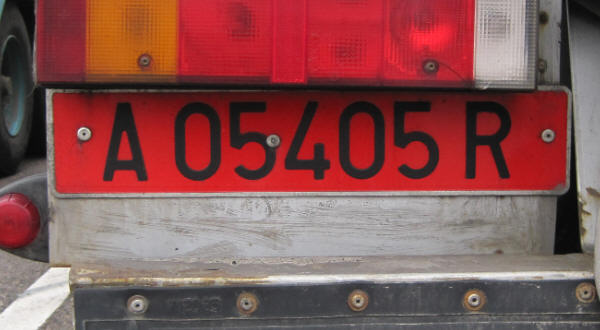license_plate: (51, 92, 569, 197)
